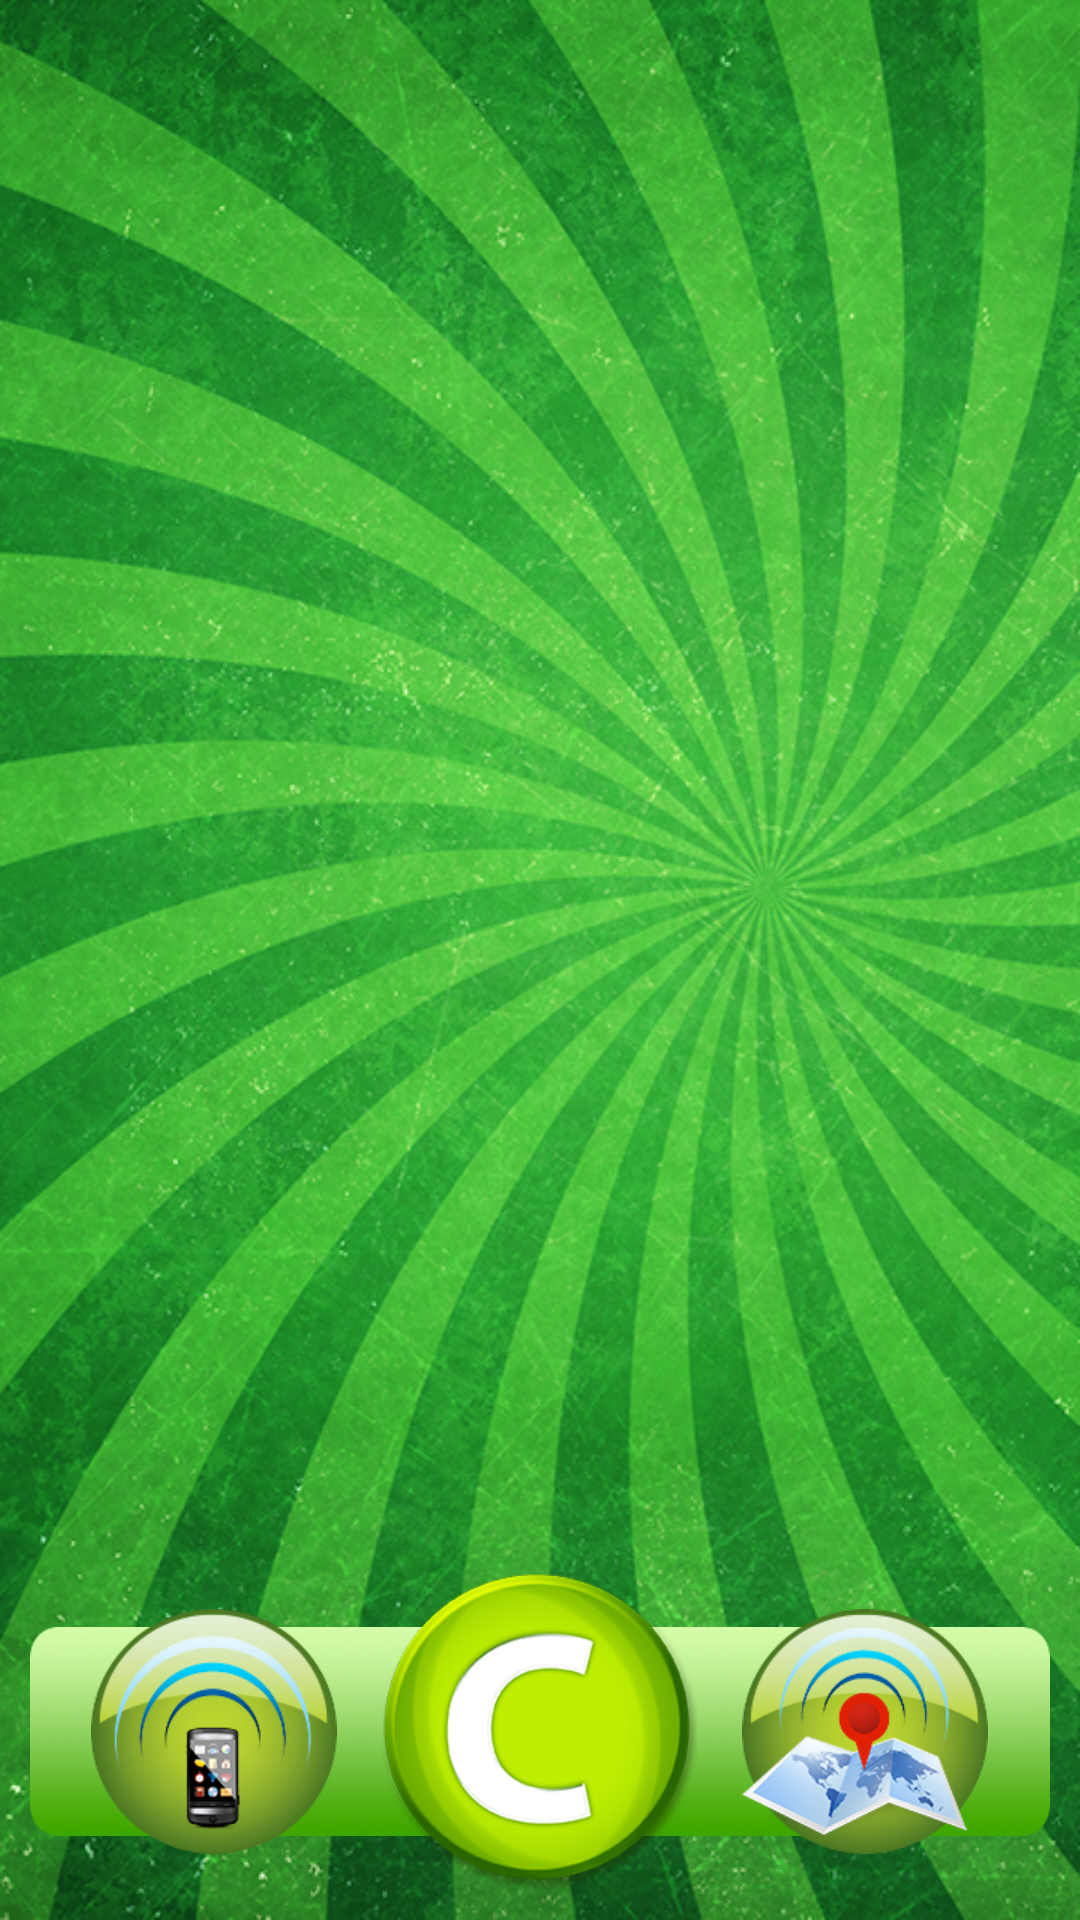

Where to tap for icons on this 1080×1920 app screen, as point (x, y):
fon foto cell: point (214, 1731)
fon foto map: point (865, 1731)
